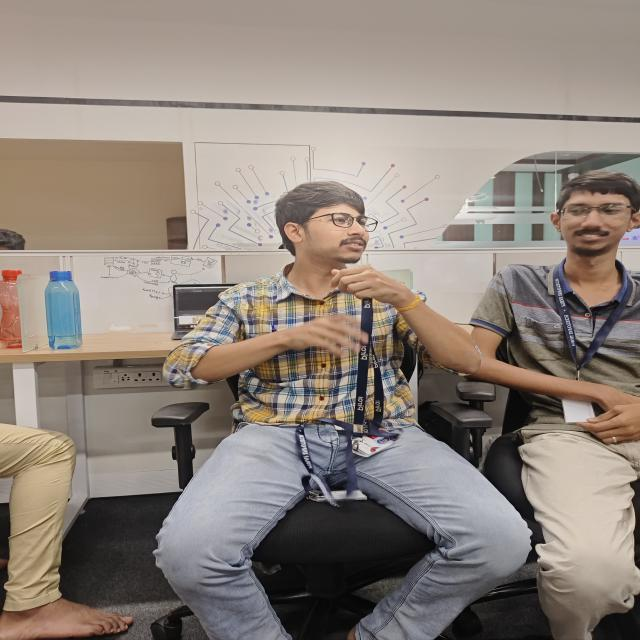id_card: (556, 270, 628, 426), (346, 279, 384, 461)
